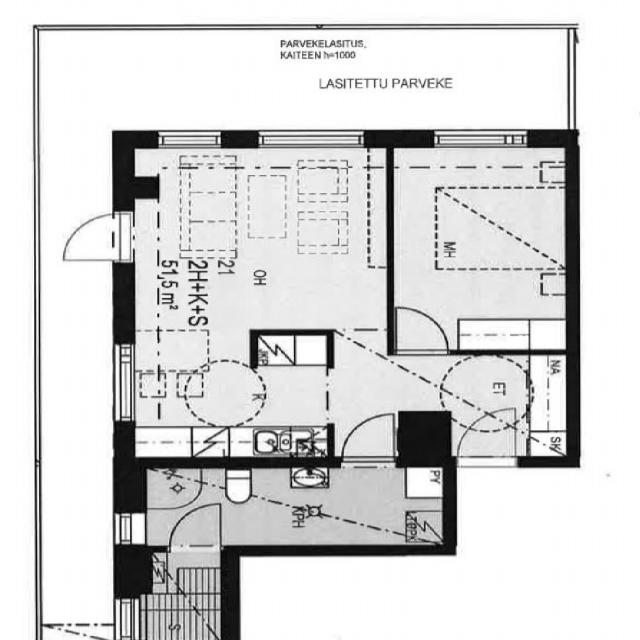door: (57, 213, 135, 260), (456, 408, 516, 468), (342, 414, 394, 467), (170, 503, 220, 551), (397, 308, 448, 354)
